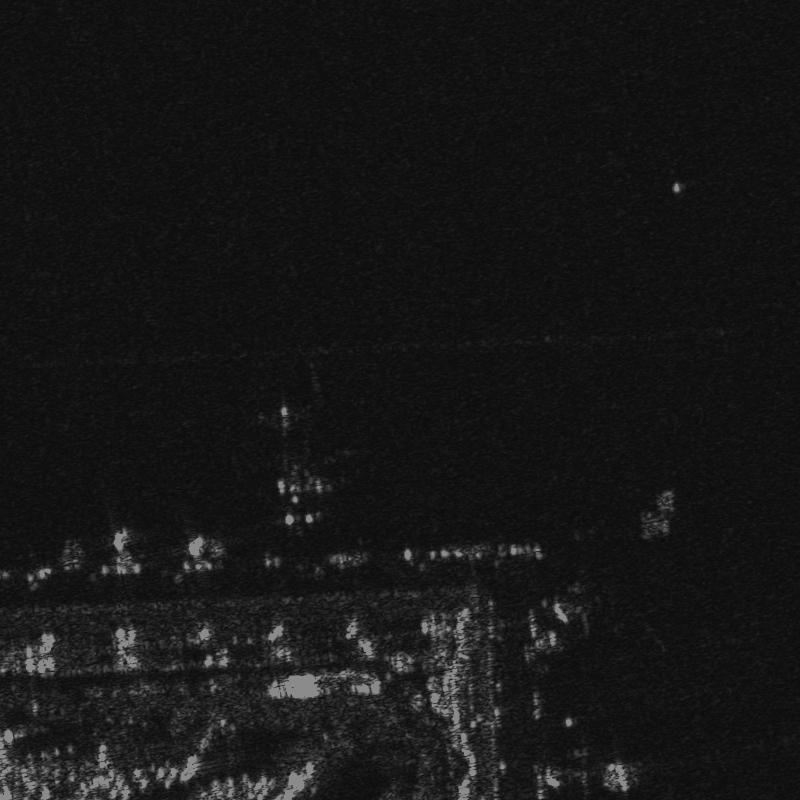A220: (541, 728, 647, 798)
Boeing787: (260, 402, 341, 536)
